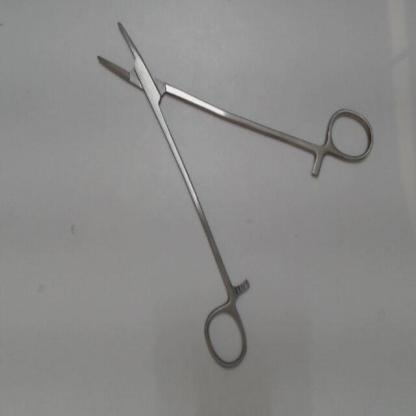8 Mayo Needle Holder: (87, 10, 378, 378)
